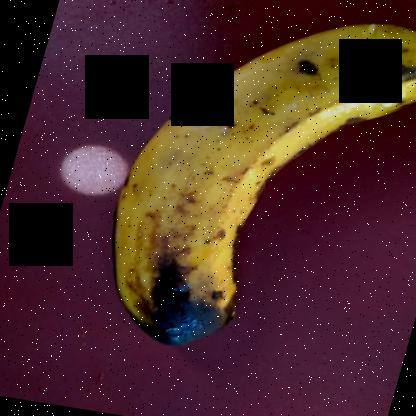rotten: (83, 1, 415, 358)
